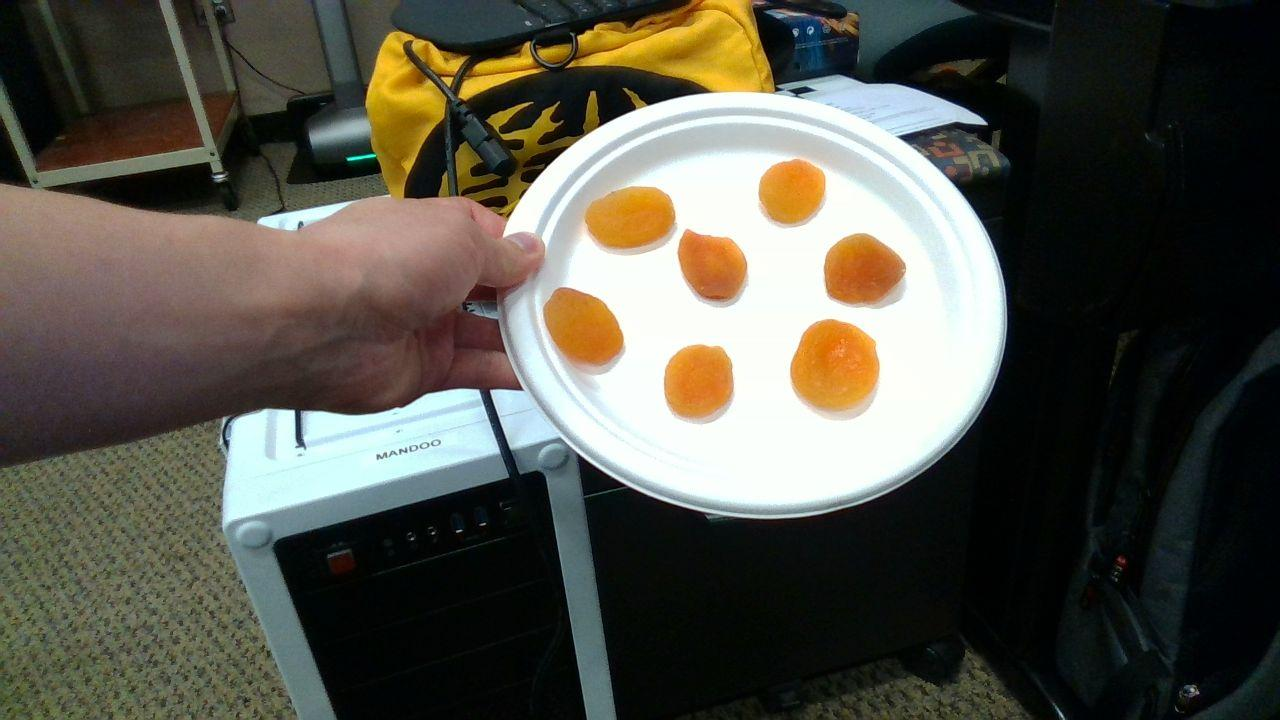apricot: (791, 319, 878, 410), (545, 287, 624, 365), (584, 186, 676, 249), (825, 233, 904, 303), (666, 345, 734, 417), (678, 230, 747, 300), (760, 160, 825, 223)
